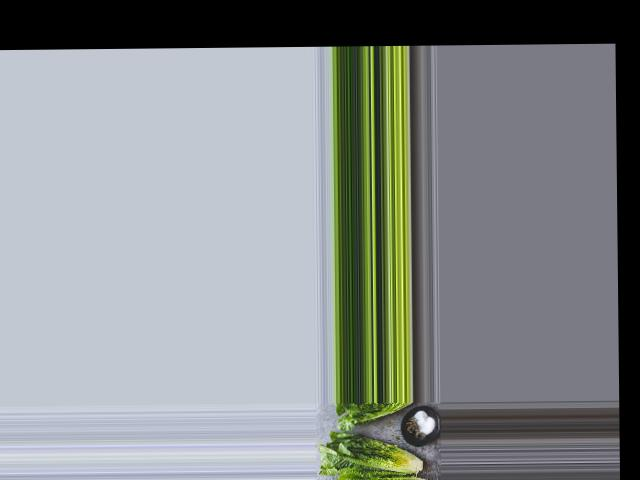lettuce: (332, 472, 441, 480)
